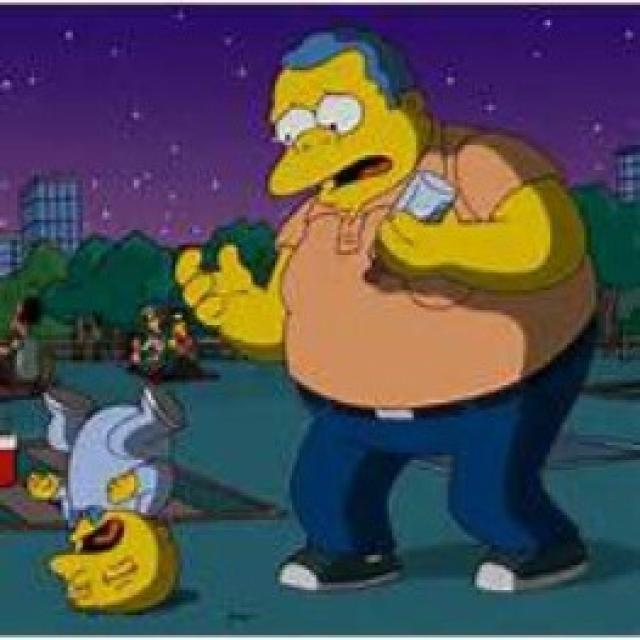Chief Wiggam: (259, 34, 437, 206)
